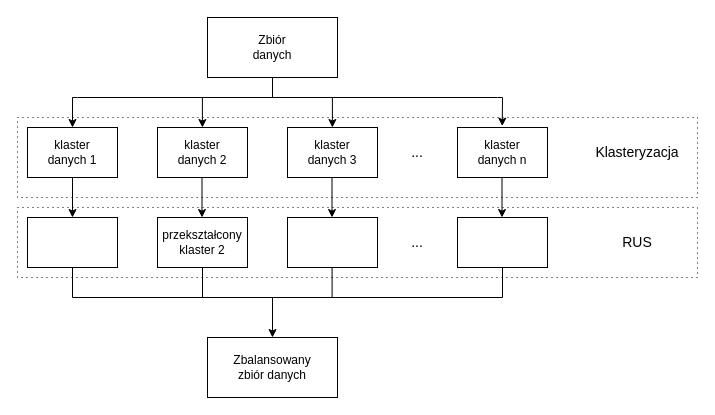
This 715x415 diagram has some shape labels left out. The shapes that lost their labels are listed below. From the top down, each one's centre as x and y in pixels, then its label:
point (72, 242): przekształcony klaster 1
point (332, 242): przekształcony klaster 3
point (502, 242): przekształcony klaster n
